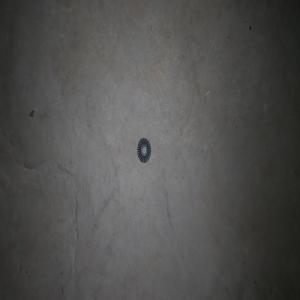Washer: (136, 137, 151, 163)
